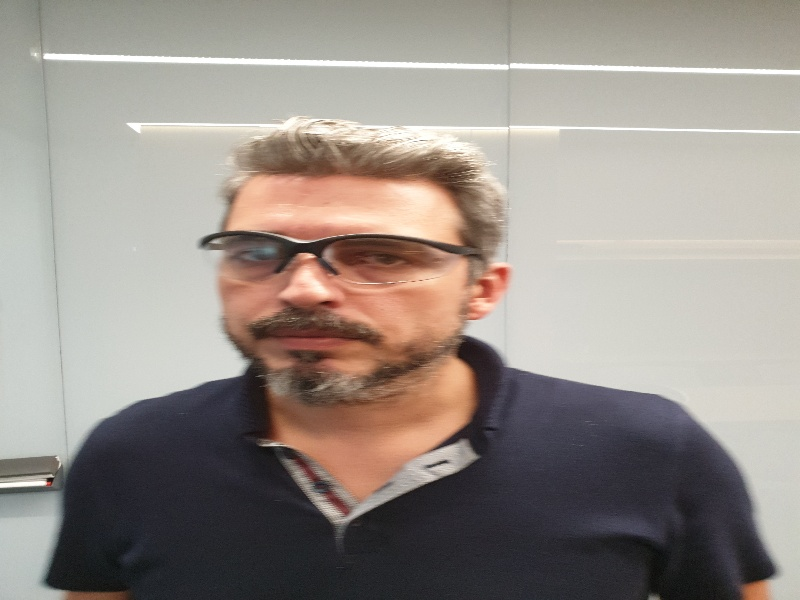Gozluk: (195, 229, 486, 291)
